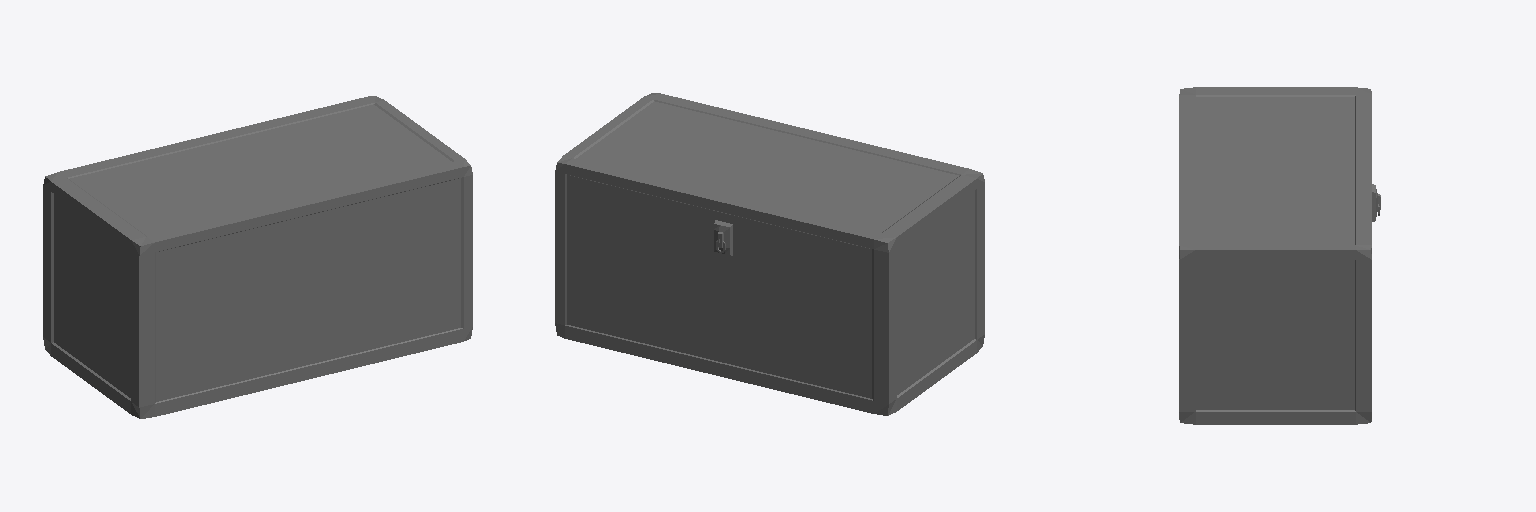
The model's file is trunk.obj.
The picture shows the model from 3 angles: view 1: azimuth 30°, elevation 25°; view 2: azimuth 150°, elevation 25°; view 3: azimuth 270°, elevation 25°; orthographic projection.
Visible parts, largest first — view 1: trunk; view 2: trunk; view 3: trunk.
Part boxes in pixels (bbox=[...]): trunk: bbox=[43, 96, 472, 418]; trunk: bbox=[555, 93, 984, 415]; trunk: bbox=[1179, 87, 1380, 424].
Size of the model in its own units: 265 by 133 by 139.